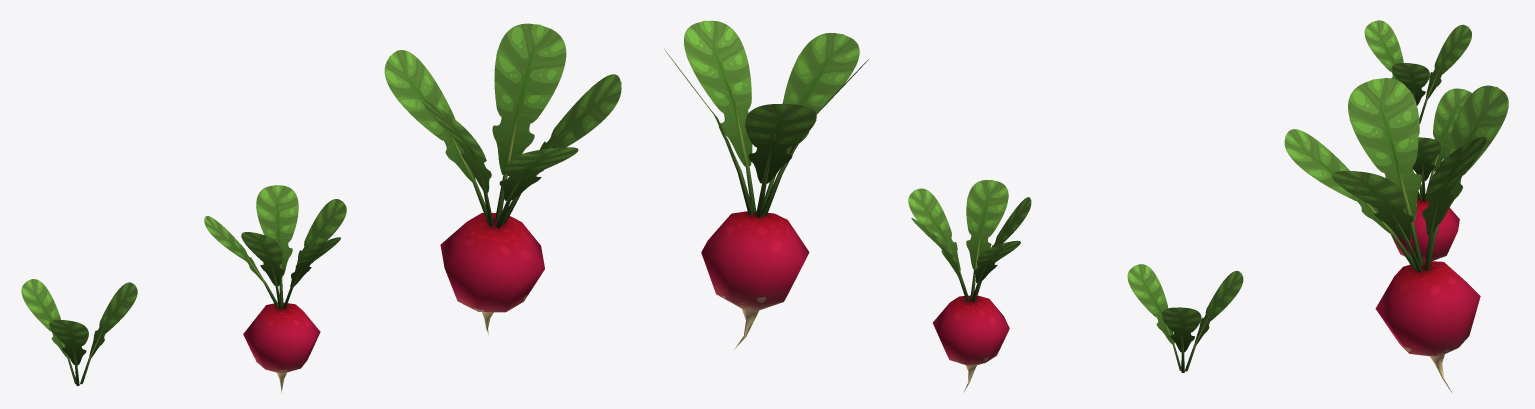
Rendered from Radish_Lv.FBX.
The picture shows the model from 3 angles, left to right: view 1: azimuth 30°, elevation 25°; view 2: azimuth 150°, elevation 25°; view 3: azimuth 270°, elevation 25°; orthographic projection. The views are drawn at different scales.
Parts seen in each view (by area): view 1: Radish_Lv3, Radish_Lv2, Radish_Lv1; view 2: Radish_Lv3, Radish_Lv2, Radish_Lv1; view 3: Radish_Lv3, Radish_Lv2, Radish_Lv1.
Boxes of the visible parts, x1,y1,x2,y2 form: Radish_Lv3: (384, 23, 621, 335); Radish_Lv2: (204, 185, 346, 393); Radish_Lv1: (21, 279, 137, 386); Radish_Lv3: (664, 20, 868, 350); Radish_Lv2: (908, 180, 1031, 392); Radish_Lv1: (1127, 264, 1243, 372); Radish_Lv3: (1284, 78, 1508, 393); Radish_Lv2: (1391, 88, 1471, 261); Radish_Lv1: (1364, 20, 1471, 123).
Bounding box in the file's own units: 214 × 105 × 81.47.
